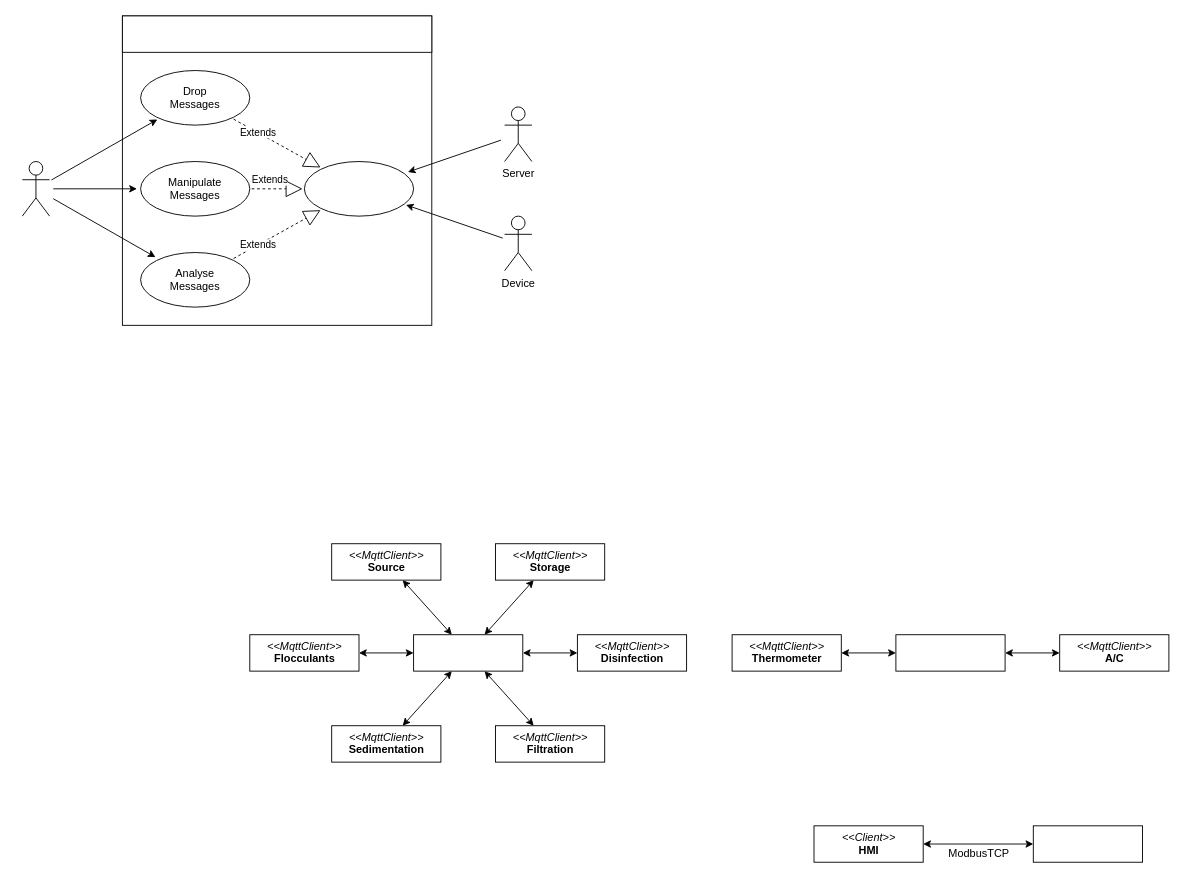
Some shapes in this 1185 by 878 pixel diagram are drawn without their labels. The shapes that lost their labels are listed below. From the top down, each one's centre as x and y in pixels, then its label:
At point (276, 33): "System".
At point (35, 188): "Attacker".
At point (358, 188): "Send/Receive Messages".
At point (468, 652): "<<MqttBroker>> ProcessControl".
At point (950, 652): "<<MqttBroker>> CloudService".
At point (1087, 843): "<<Server>> PLC".
